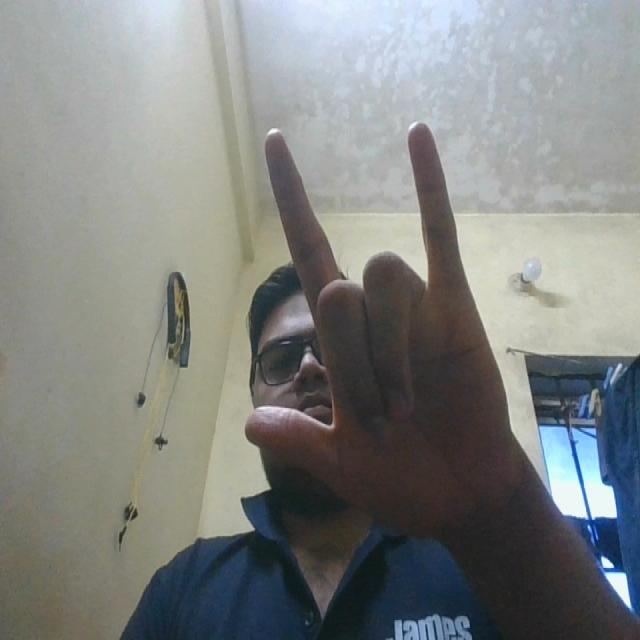iloveyou: (214, 103, 525, 530)
